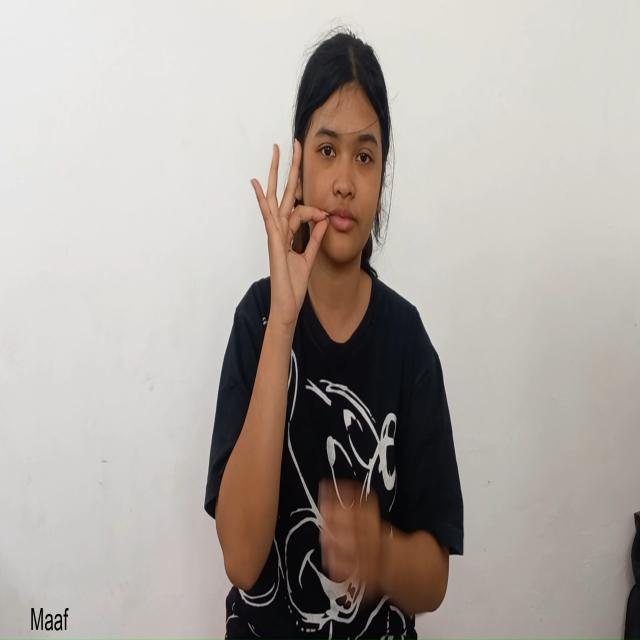Maaf -BISINDO-: (251, 31, 391, 326)
